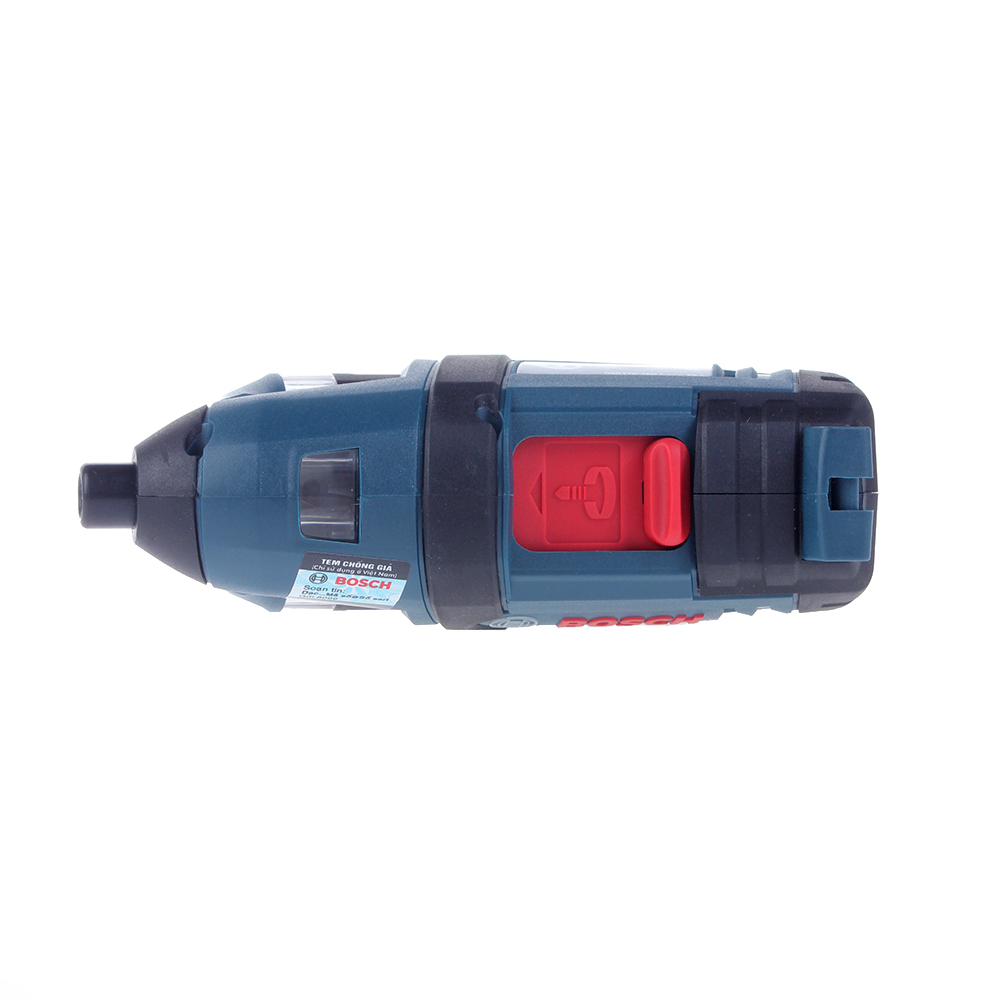Bosch: (556, 612, 717, 630), (332, 573, 394, 594)
